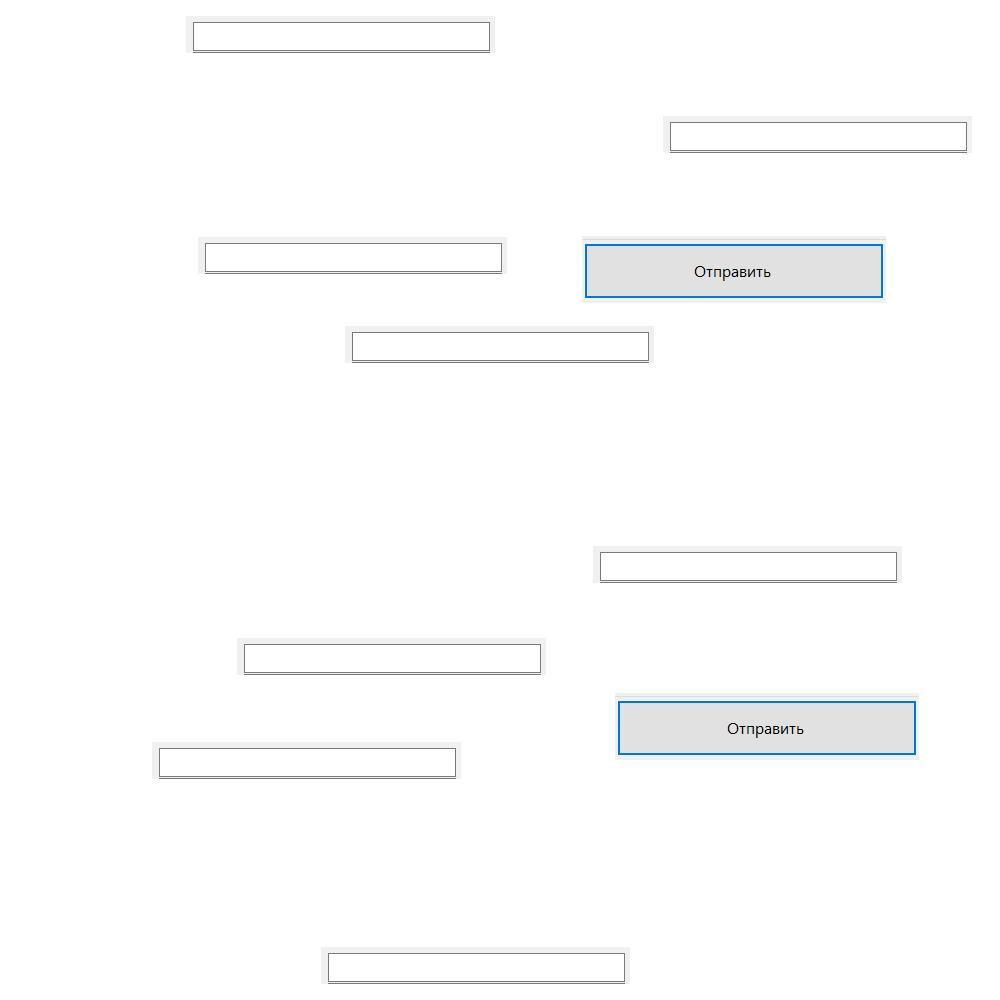Button: (582, 236, 886, 303), (615, 693, 919, 760)
EditText-: (663, 116, 972, 153), (321, 947, 630, 984), (593, 546, 902, 583), (186, 16, 495, 53), (152, 742, 461, 779), (345, 326, 654, 363), (198, 237, 507, 274), (237, 638, 546, 675)
